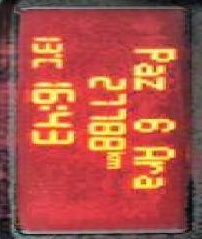1: (29, 80, 73, 86), (27, 35, 60, 41)
2: (83, 74, 125, 90)
3: (25, 128, 76, 144), (27, 41, 62, 52)
4: (27, 110, 71, 127)
6: (127, 115, 176, 132), (27, 87, 73, 102)
7: (85, 91, 127, 106), (85, 106, 125, 120)
8: (83, 120, 125, 135), (85, 135, 123, 150)
X: (129, 45, 173, 61), (127, 144, 173, 159), (129, 75, 164, 90), (129, 174, 162, 189), (129, 159, 162, 174), (129, 61, 164, 75), (27, 56, 60, 69), (36, 104, 67, 110), (100, 158, 118, 168), (100, 150, 125, 157)
